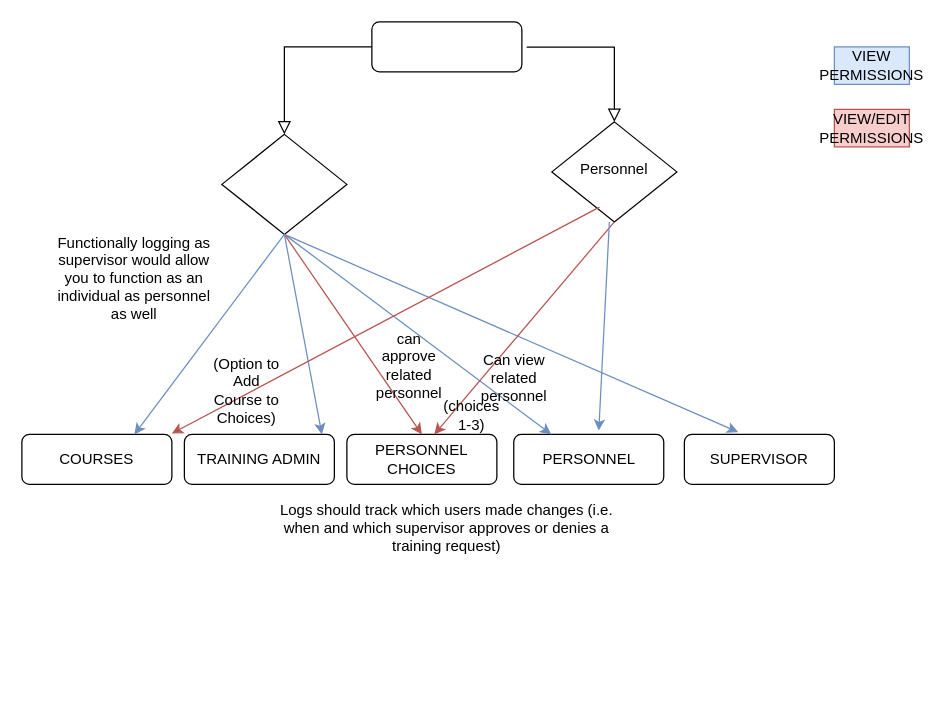
The diagram is 945 pixels wide and 719 high, and some of its shapes have lost their labels. The shapes that lost their labels are listed below. From the top down, each one's centre as x and y in pixels, then its label:
At point (446, 46): "Pop Up to Login in".
At point (284, 183): "Supervisor?".
